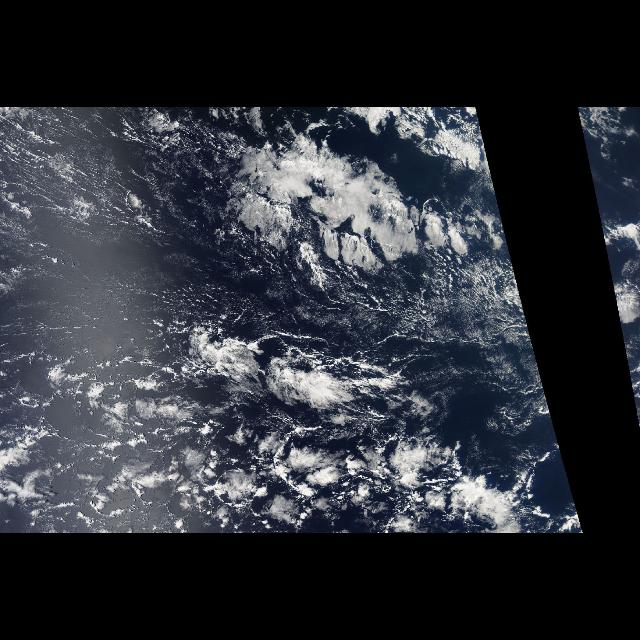Fish: (226, 125, 474, 309)
Sugar: (1, 108, 287, 346)
